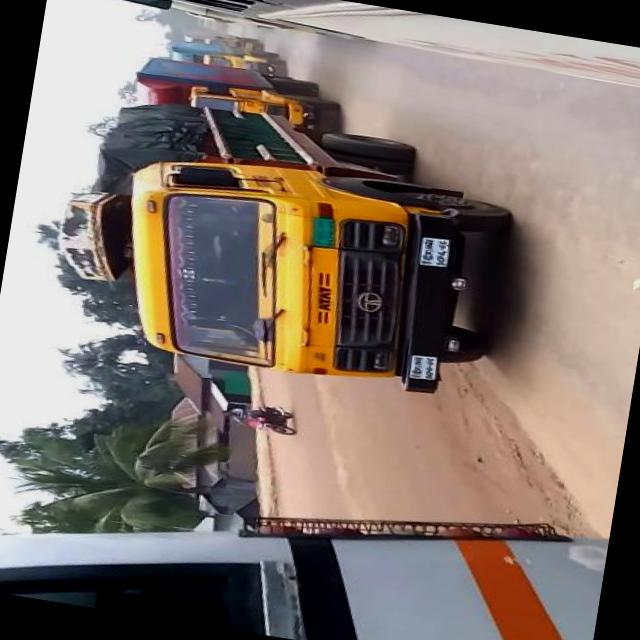bus: (0, 428, 602, 640), (52, 0, 640, 96)
motorcycle: (221, 400, 293, 434)
truck: (40, 78, 523, 404), (128, 48, 342, 131), (167, 34, 289, 76)
